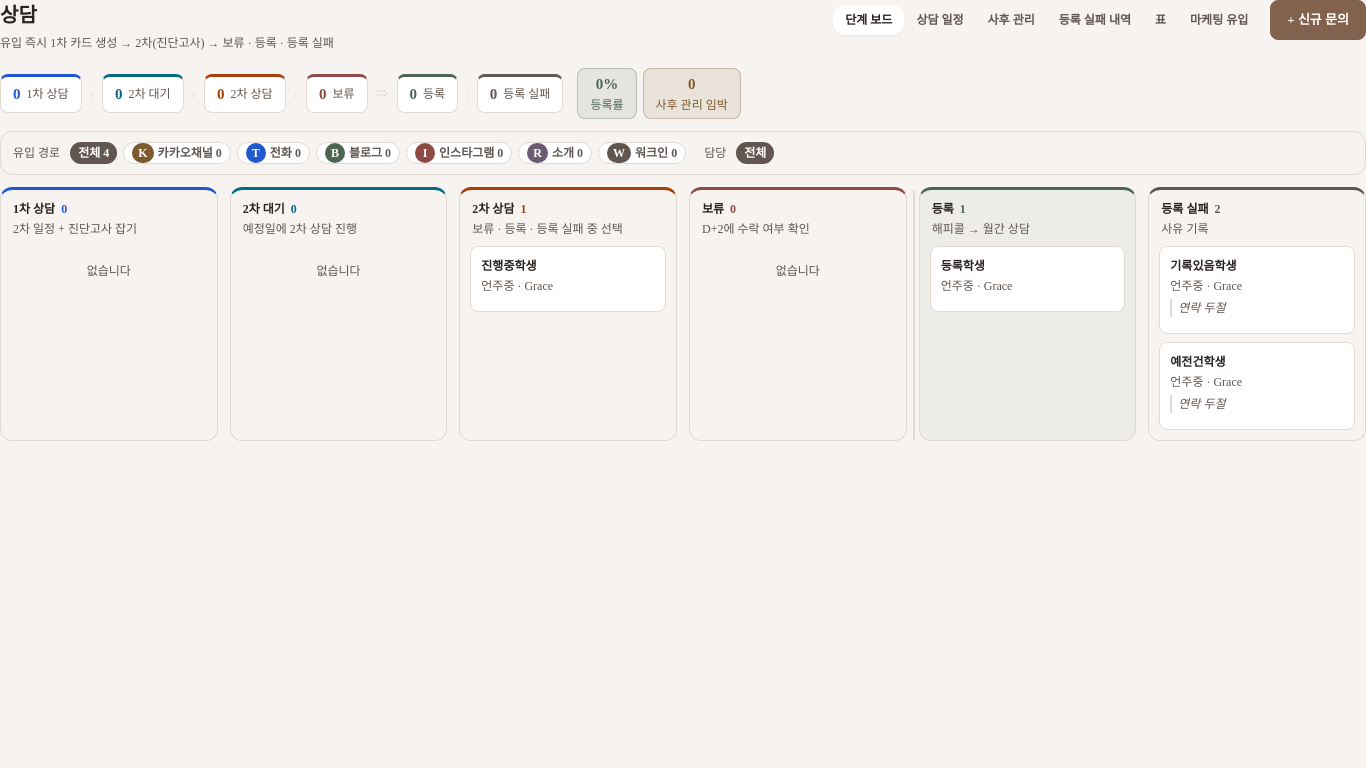
Scenario: §24 실패 지정 — 진행 건 › 등록 건은 입력 없이 「실패로 바꿀 수 없다」 안내만 보여준다 — 오류 코드는 보이지 않는다
This screenshot has width=1366, height=768.
Expected: the button "진행중학생 언주중 · Grace" is shown, [481,256,655,300]
Click the button "등록학생 언주중 · Grace" at x=1028, y=278, box [941,256,1114,300]
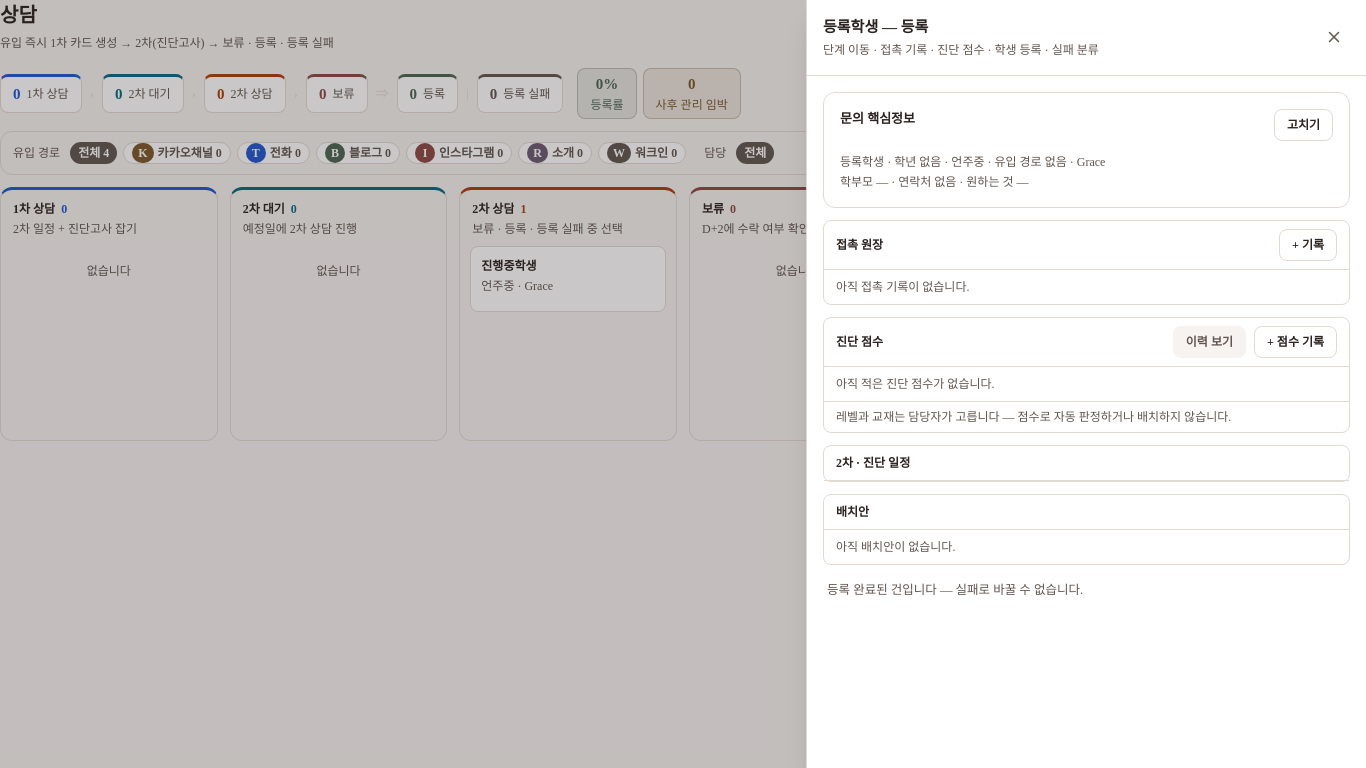
Now the text "등록 완료된 건입니다 — 실패로 바꿀 수 없습니다." is shown, box [827,582,1083,596]
